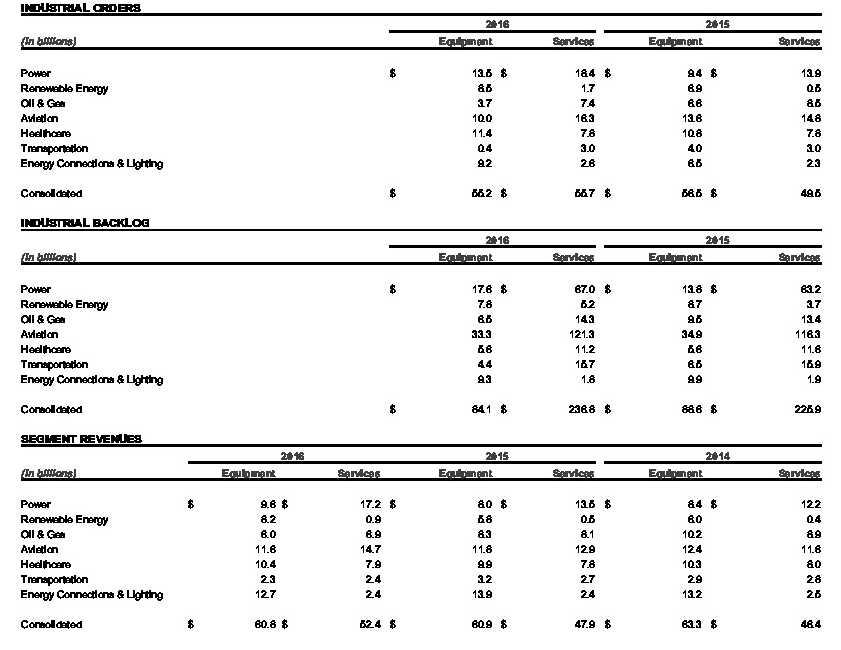table: (0, 0, 841, 650)
